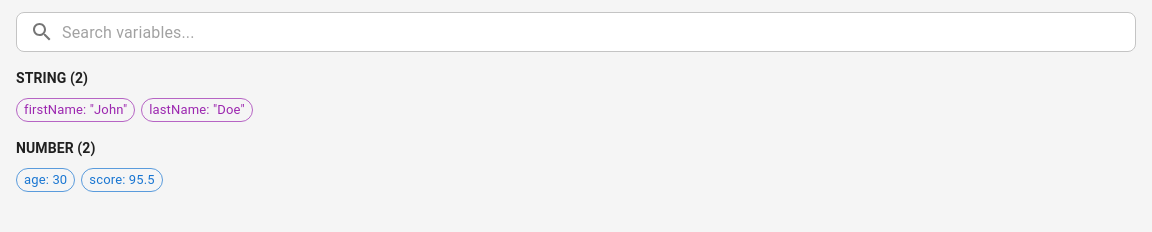
CustomVariablePanel › search functionality › should show "No Variables Found" when search has no results
The width and height of the screenshot is (1152, 232).
Type "nonexistent" into the field with placeholder "Search variables..." at (599,32), box [62,12,1136,52]
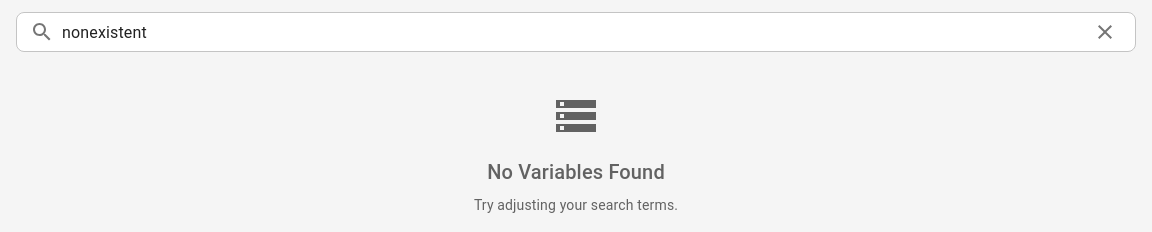
Expected: the heading "No Variables Found" is shown, [487,156,665,188]
Expected: the text "Try adjusting your search terms." is shown, [474,195,678,215]
